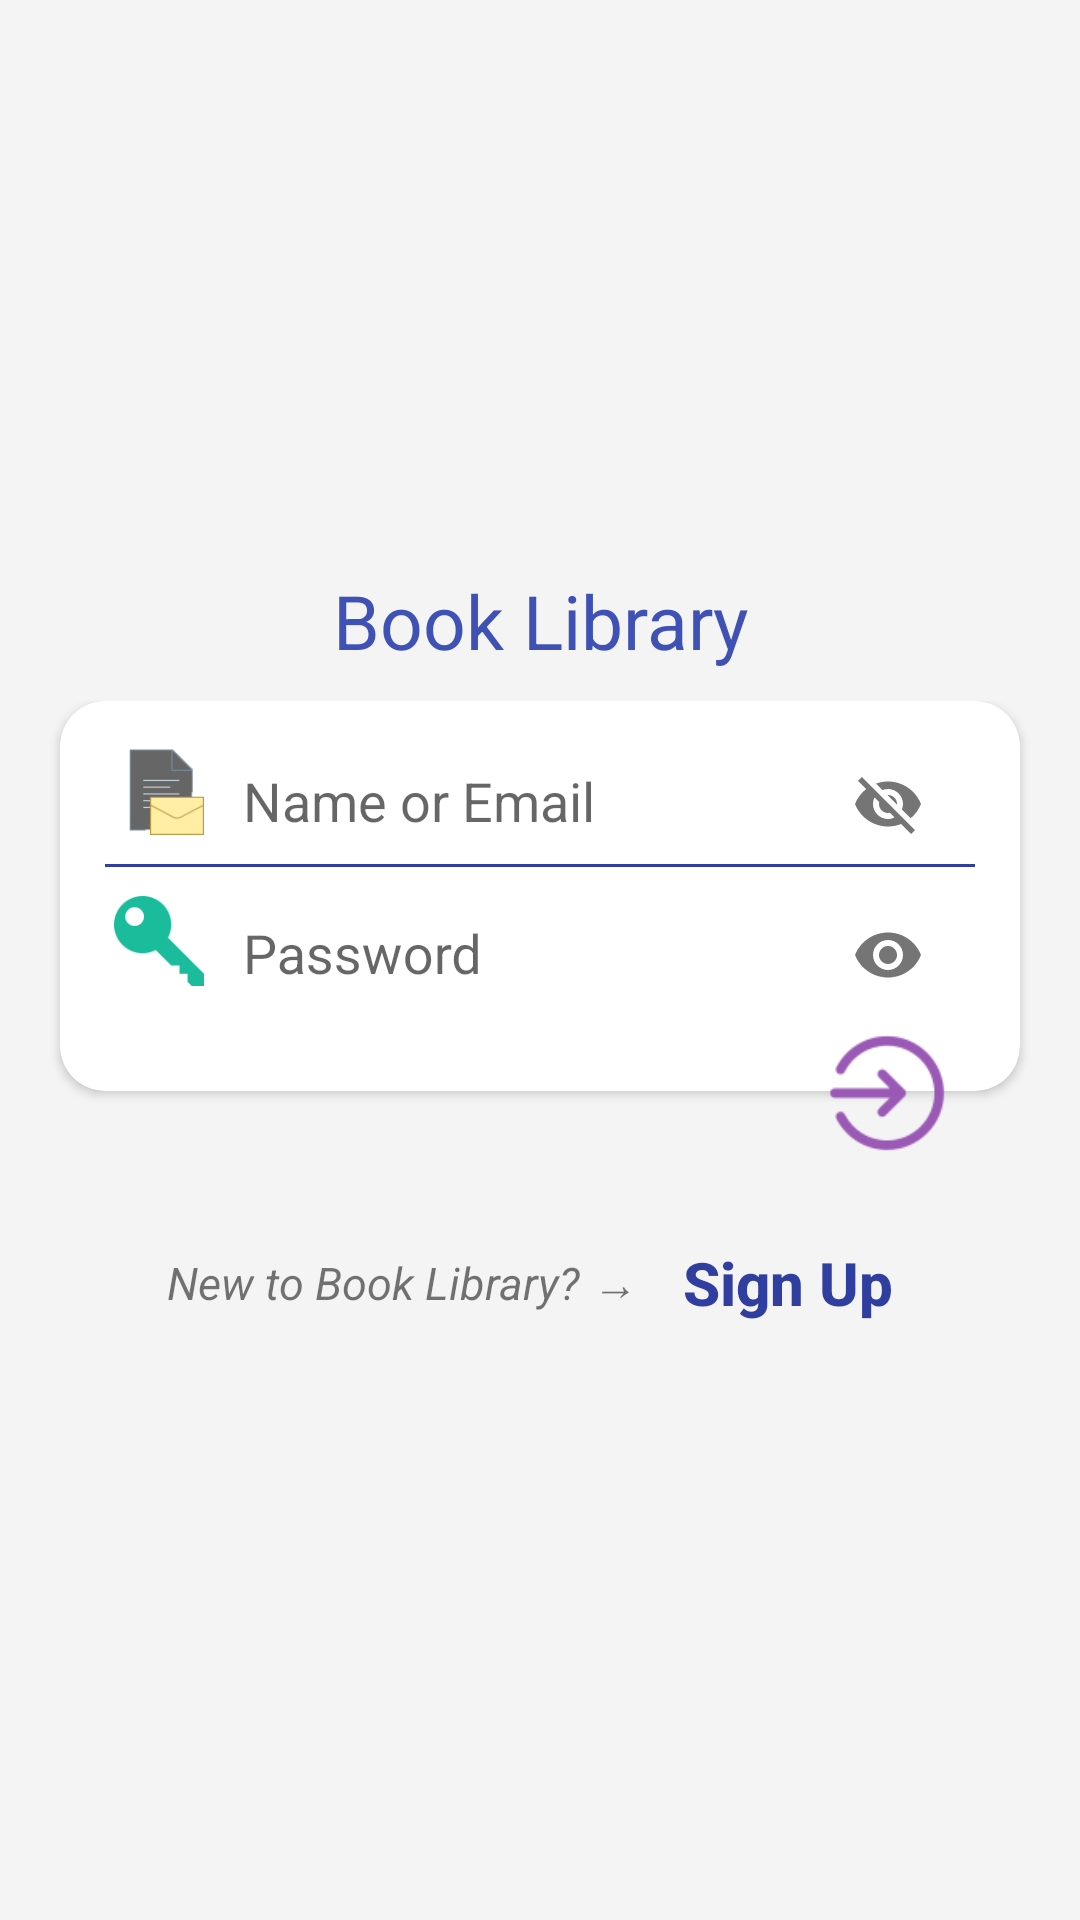

Locate icon controls on the screen. Image size 1080w x 1920h, boxes as (x1, y1, x2, y2).
login: (816, 1036, 960, 1151)
